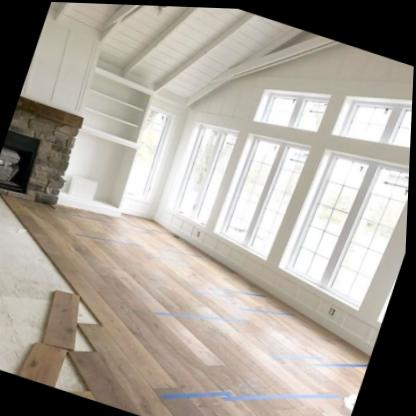Wooden floor: (0, 192, 374, 416)
